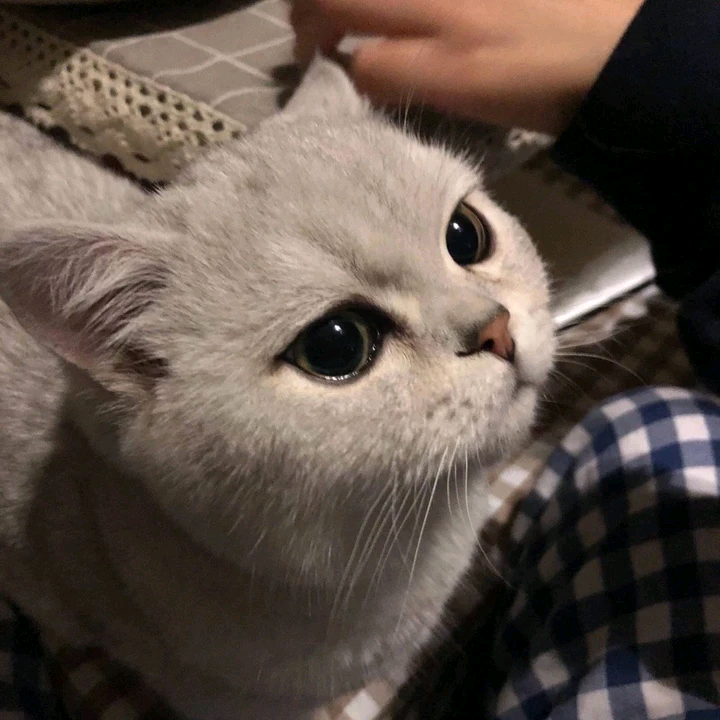cat: (20, 68, 562, 594)
